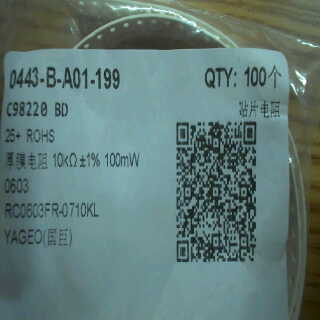10kR: (50, 148, 78, 171)
